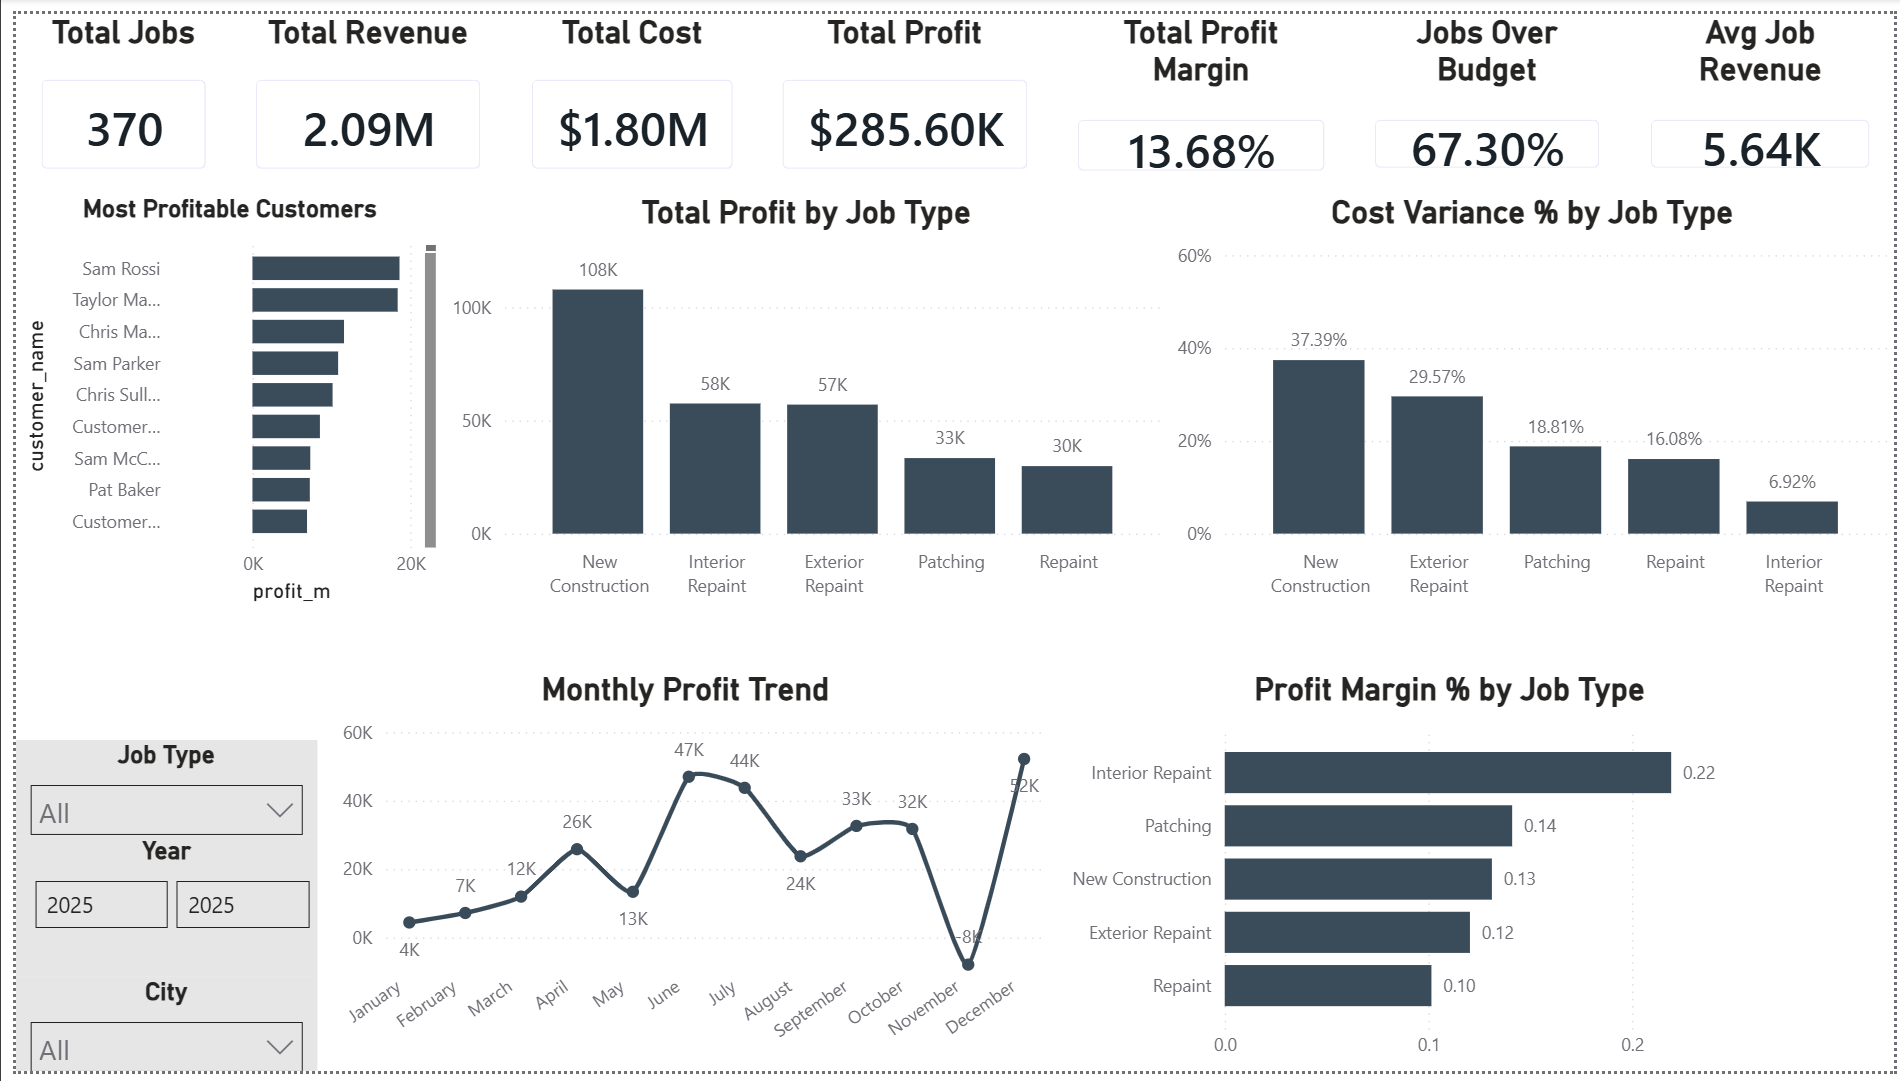

The dashboard page shown, as its layout file describes it:
{"tool":"powerbi","page":{"name":"Page 1","canvas":[1280,720],"ordinal":0},"visuals":[{"type":"cardVisual","title":"Total Jobs","fields":{"Data":["job_costing_fact.total_jobs"]},"box":[0,0,146.2,122.5],"z":0},{"type":"cardVisual","title":"Total Revenue","fields":{"Data":["job_costing_fact.revenue_m"]},"box":[146.2,0,187.5,122.5],"z":1000},{"type":"cardVisual","title":"Total Cost","fields":{"Data":["job_costing_fact.total_cost"]},"box":[333.8,0,171.2,122.5],"z":2000},{"type":"cardVisual","title":"Total Profit","fields":{"Data":["job_costing_fact.profit_m"]},"box":[505,0,201.2,122.5],"z":3000},{"type":"cardVisual","title":"Total Profit Margin","fields":{"Data":["job_costing_fact.margin_m"]},"box":[706.2,0,202.5,123.8],"z":4000},{"type":"clusteredColumnChart","title":"Total Profit by Job Type","fields":{"Category":["job_costing_fact.job_type"],"Y":["job_costing_fact.profit_m"]},"box":[291.5,122.7,494.5,282],"z":5000},{"type":"clusteredColumnChart","title":"Cost Variance % by Job Type","fields":{"Category":["job_costing_fact.job_type"],"Y":["job_costing_fact.avg_cost_variance_pct"]},"box":[785.9,122.7,494.5,282],"z":6000},{"type":"lineChart","title":"Monthly Profit Trend","fields":{"Category":["job_costing_fact.job_date.Variation.Date Hierarchy.Month"],"Y":["job_costing_fact.profit_m"]},"box":[205,447.5,501.2,272.5],"z":7000},{"type":"slicer","title":"Job Type","fields":{"Values":["job_costing_fact.job_type"]},"box":[0,495,205,65],"z":8000},{"type":"slicer","title":"Year","fields":{"Values":["job_costing_fact.year"]},"box":[0,560,205,96.2],"z":9000},{"type":"slicer","title":"City","fields":{"Values":["job_costing_fact.city"]},"box":[0,656.2,205,63.8],"z":10000},{"type":"cardVisual","title":"Jobs Over Budget","fields":{"Data":["job_costing_fact.Overrun Rate %"]},"box":[908.8,0,187.5,122.5],"z":11000},{"type":"barChart","title":"Most Profitable Customers","fields":{"Category":["job_costing_fact.customer_name"],"Y":["job_costing_fact.profit_m"]},"box":[0,122.5,291.2,282.5],"z":12000},{"type":"cardVisual","title":"Avg Job Revenue","fields":{"Data":["job_costing_fact.Avg Revenue per Job"]},"box":[1096.2,0,183.8,122.5],"z":13000},{"type":"barChart","title":"Profit Margin % by Job Type","fields":{"Category":["job_costing_fact.job_type"],"Y":["job_costing_fact.margin_m"]},"box":[706.2,447.5,541.2,272.5],"z":14000}]}

Visuals, with their boxes in screenshot pixels (x1, y1, x2, y2), scaled from the page's 1280x720 canvas onto the 1900x1081 screenshot:
"Total Jobs" cardVisual: left=0, top=0, right=217, bottom=184
"Total Revenue" cardVisual: left=217, top=0, right=495, bottom=184
"Total Cost" cardVisual: left=495, top=0, right=750, bottom=184
"Total Profit" cardVisual: left=750, top=0, right=1048, bottom=184
"Total Profit Margin" cardVisual: left=1048, top=0, right=1349, bottom=186
"Total Profit by Job Type" clusteredColumnChart: left=433, top=184, right=1167, bottom=608
"Cost Variance % by Job Type" clusteredColumnChart: left=1167, top=184, right=1899, bottom=608
"Monthly Profit Trend" lineChart: left=304, top=672, right=1048, bottom=1080
"Job Type" slicer: left=0, top=743, right=304, bottom=841
"Year" slicer: left=0, top=841, right=304, bottom=985
"City" slicer: left=0, top=985, right=304, bottom=1080
"Jobs Over Budget" cardVisual: left=1349, top=0, right=1627, bottom=184
"Most Profitable Customers" barChart: left=0, top=184, right=432, bottom=608
"Avg Job Revenue" cardVisual: left=1627, top=0, right=1899, bottom=184
"Profit Margin % by Job Type" barChart: left=1048, top=672, right=1852, bottom=1080
